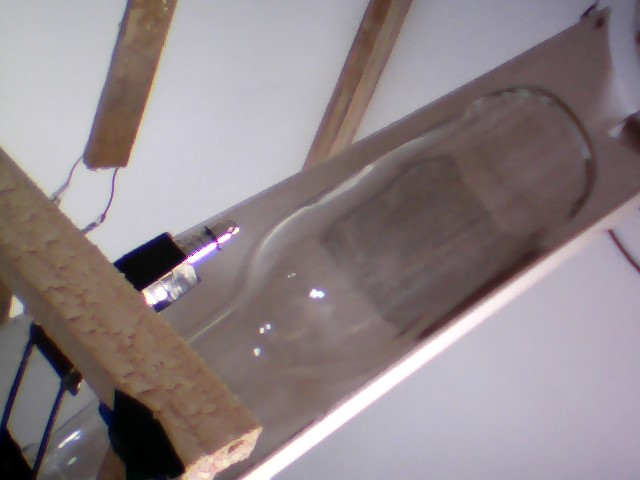vidrio: (175, 78, 599, 402)
